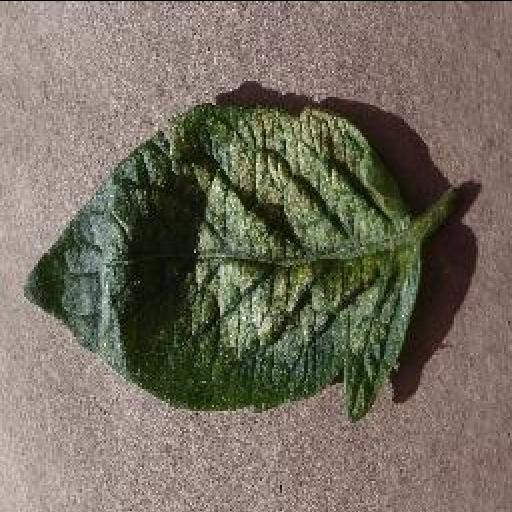disease_tomato: (23, 100, 421, 424)
